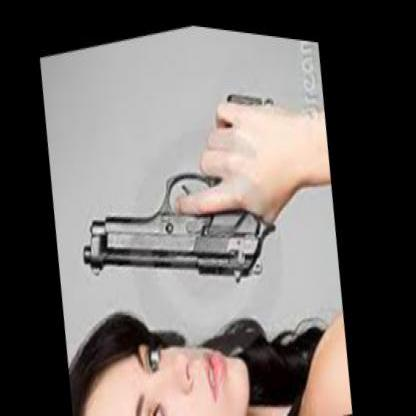pistol: (62, 61, 300, 337)
